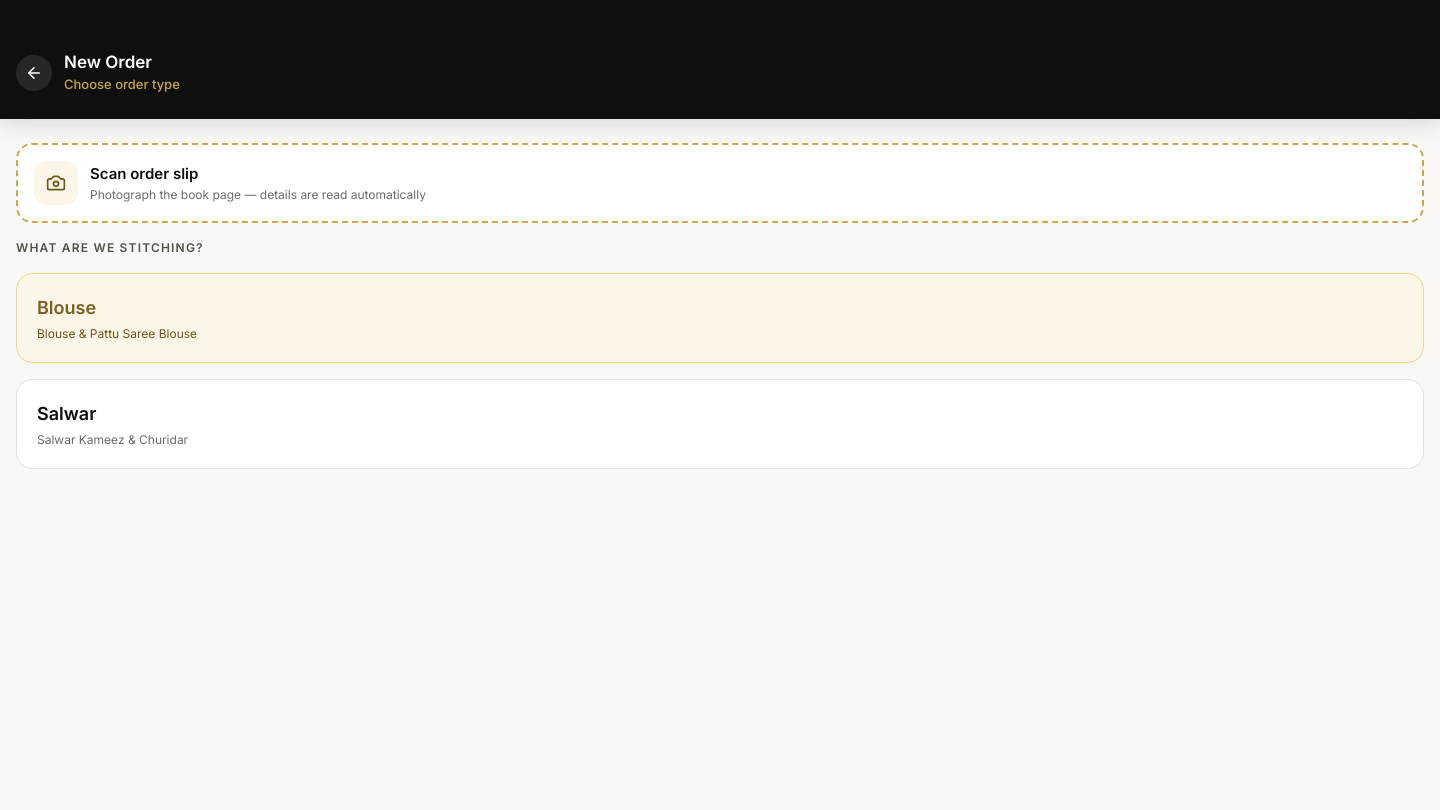
Test case: NewOrderWizard › order-type selector › enters the wizard at step 1 once an order type is chosen
The width and height of the screenshot is (1440, 810).
Click the text "Blouse" at (67, 307), box top-left (37, 297), bottom-right (96, 318)
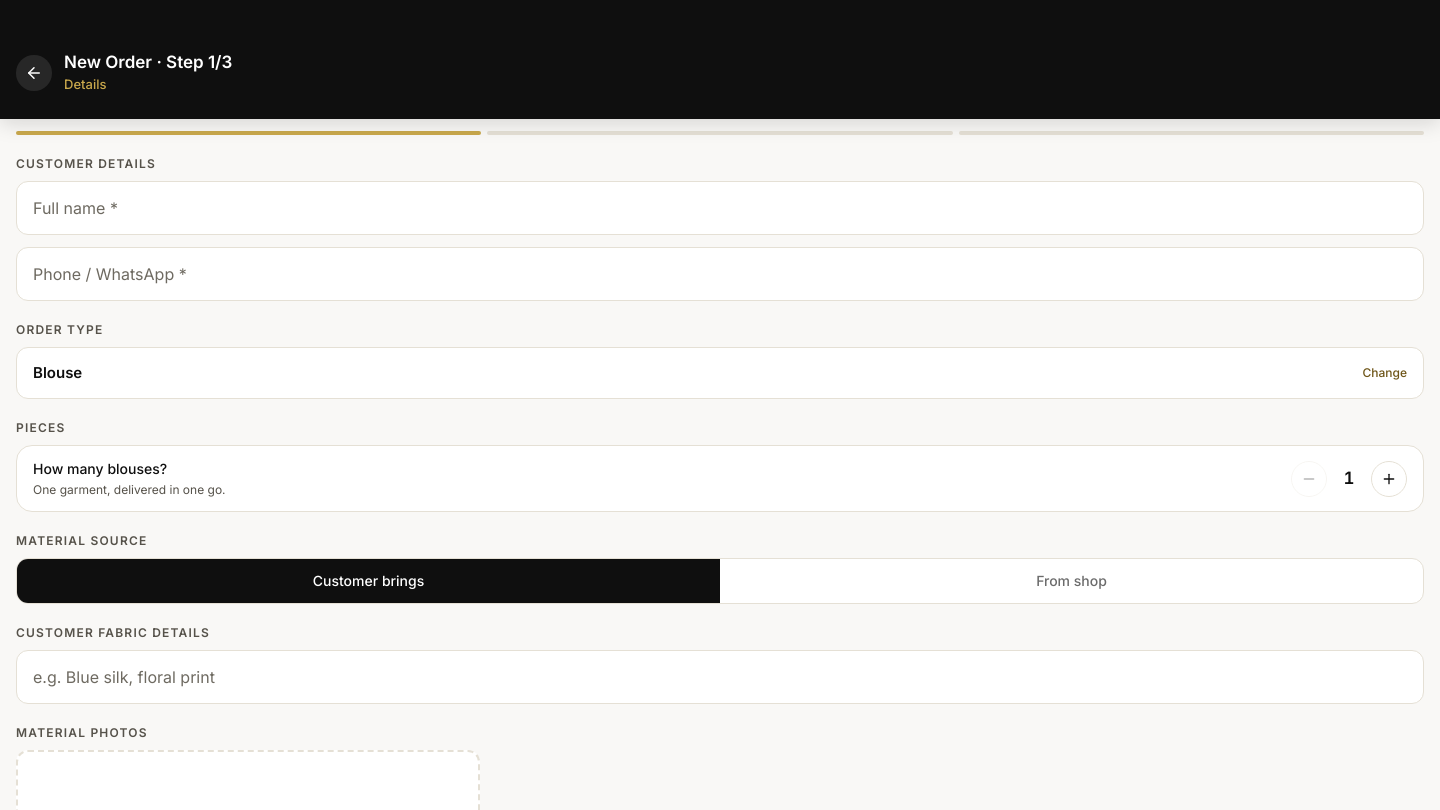
Expected: the text "Blouse" is shown, top-left (33, 362), bottom-right (82, 384)
Expected: the heading "New Order · Step 1/3" is shown, top-left (64, 52), bottom-right (232, 73)
